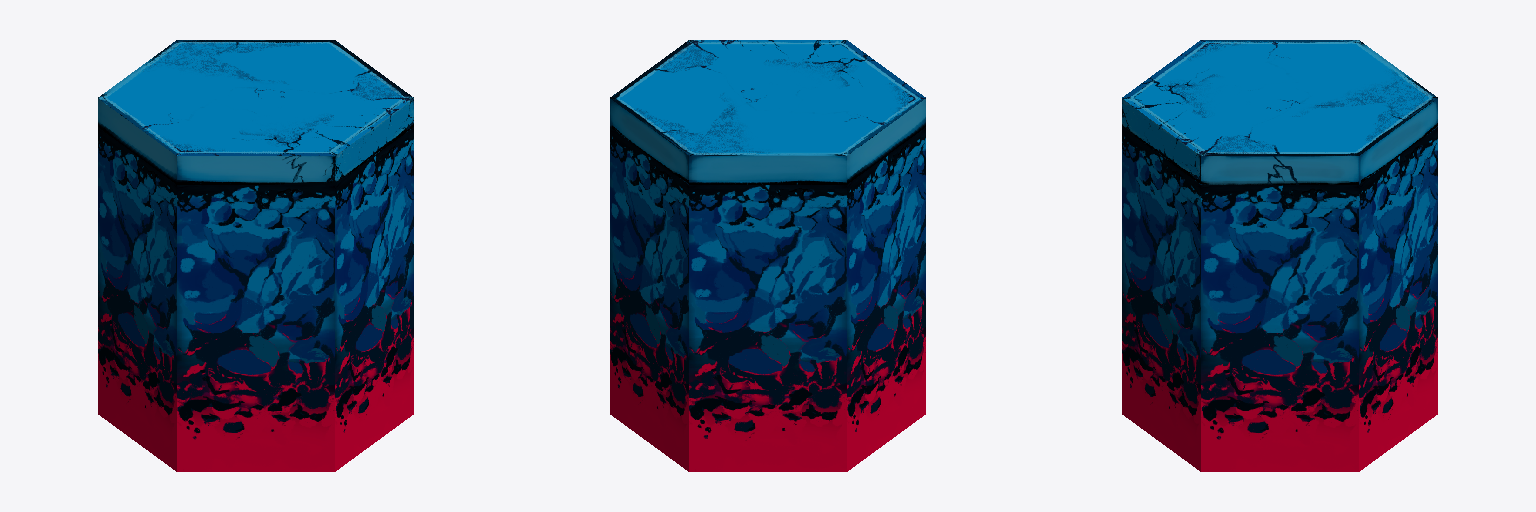
The picture shows the model from 3 angles: view 1: azimuth 30°, elevation 25°; view 2: azimuth 150°, elevation 25°; view 3: azimuth 270°, elevation 25°; orthographic projection.
Visible parts, largest first — view 1: Circle_Material.001; view 2: Circle_Material.001; view 3: Circle_Material.001.
Boxes of the visible parts, x1=… form: Circle_Material.001: x1=98, y1=40, x2=413, y2=471; Circle_Material.001: x1=610, y1=40, x2=925, y2=471; Circle_Material.001: x1=1122, y1=40, x2=1437, y2=471.
Bounding box in the file's own units: 1.73 × 2.2 × 2.
Materials: 1 (1 with a texture image).